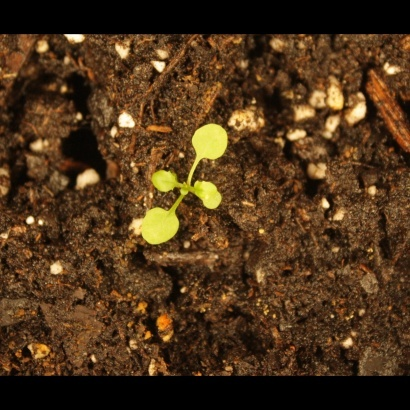leaf: (137, 202, 183, 252), (186, 118, 233, 161), (194, 176, 225, 212), (147, 164, 179, 198)
